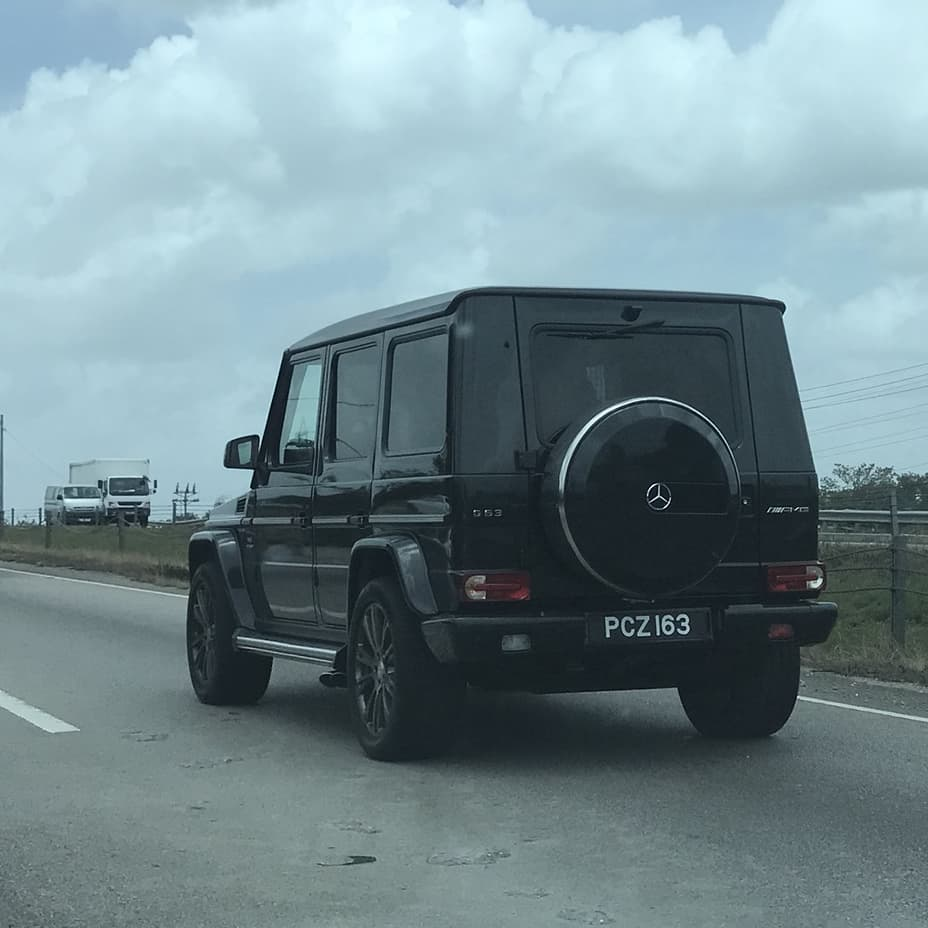License-Plate: (588, 614, 709, 641)
